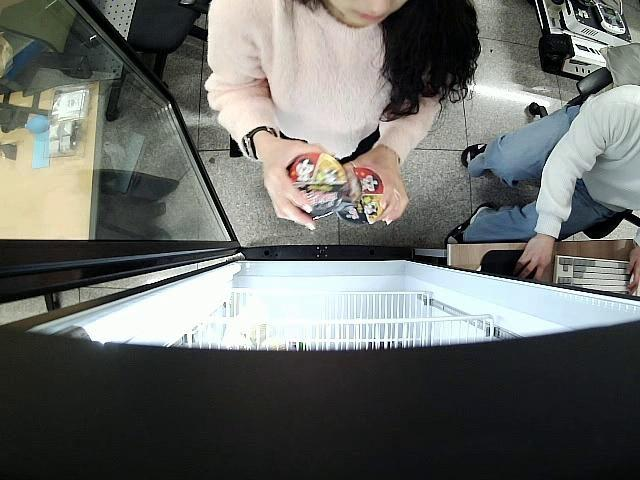08_buldak_S: (288, 154, 348, 220), (339, 167, 386, 226)
